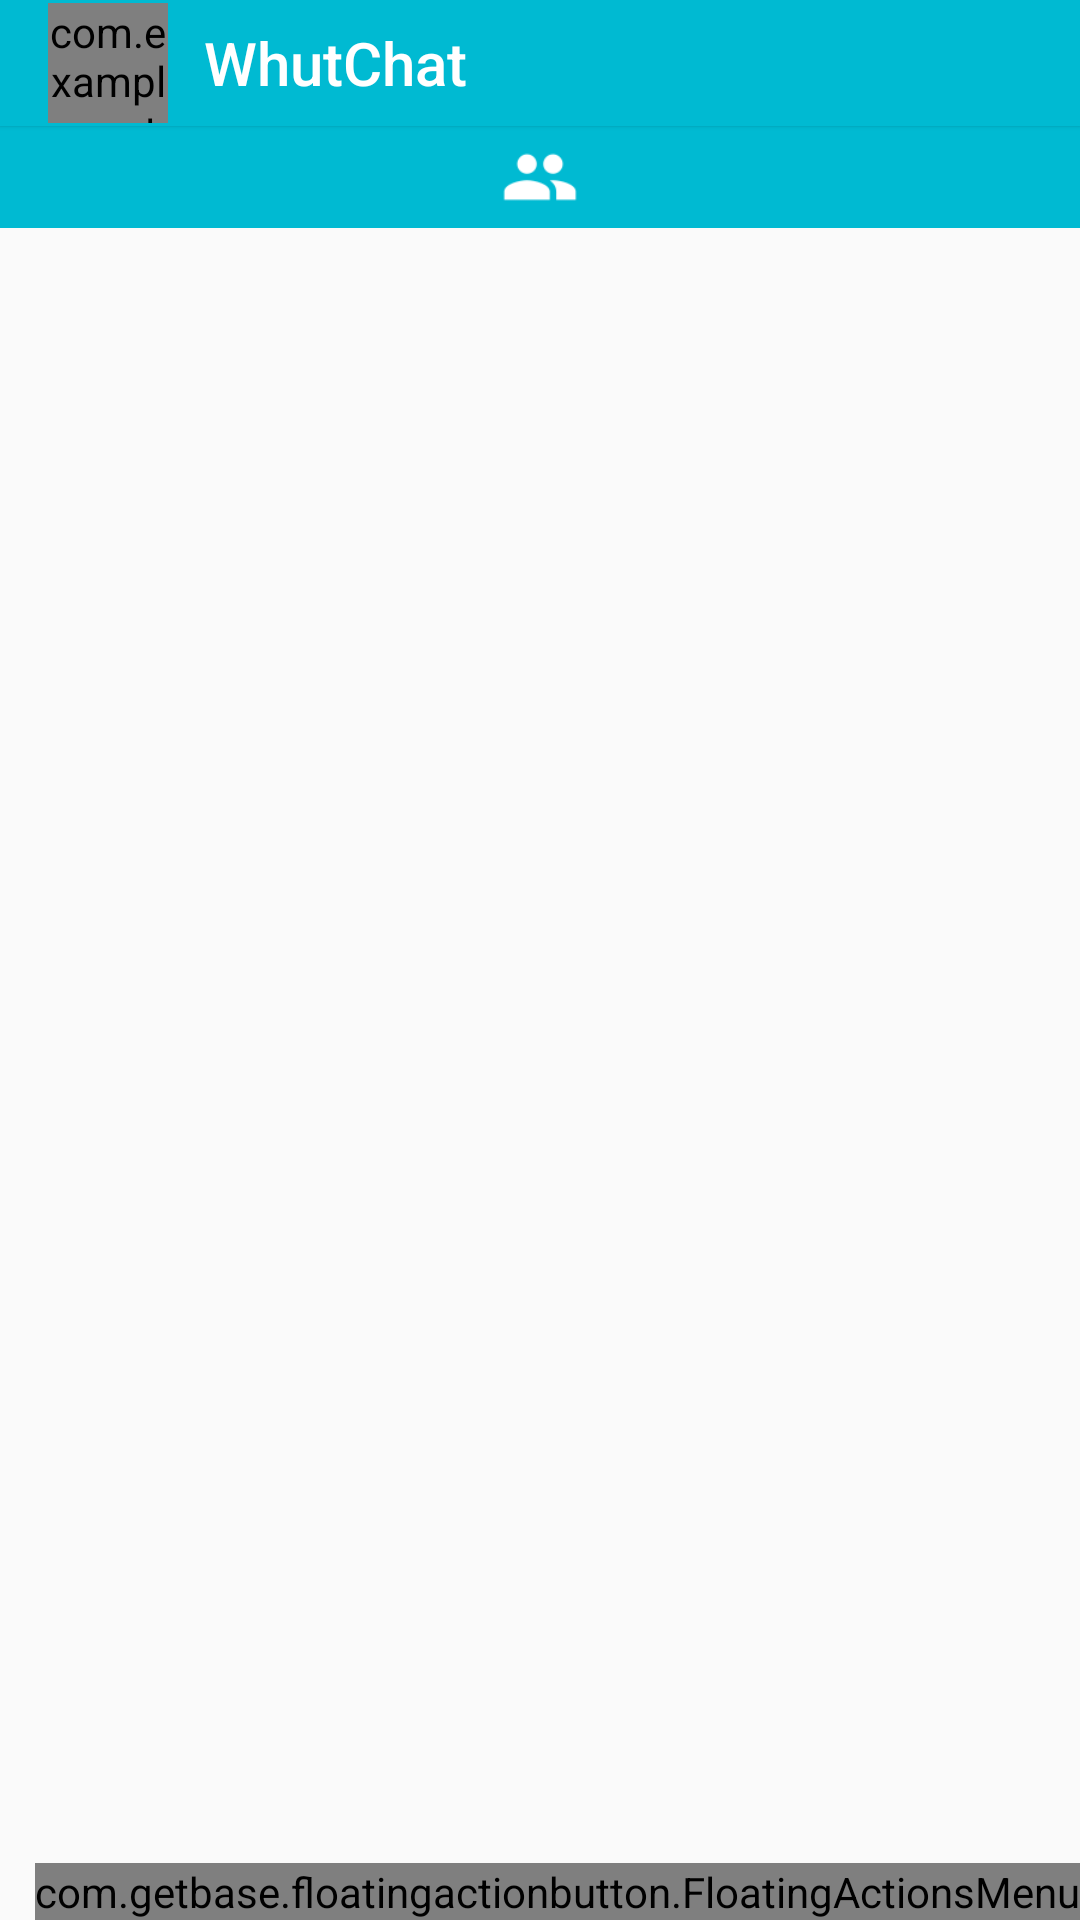

Named icons in this screenshot (1080 × 1920) and their bounding boxes, (x1, y1, x2, y2):
appmain contact: (503, 153, 577, 201)
